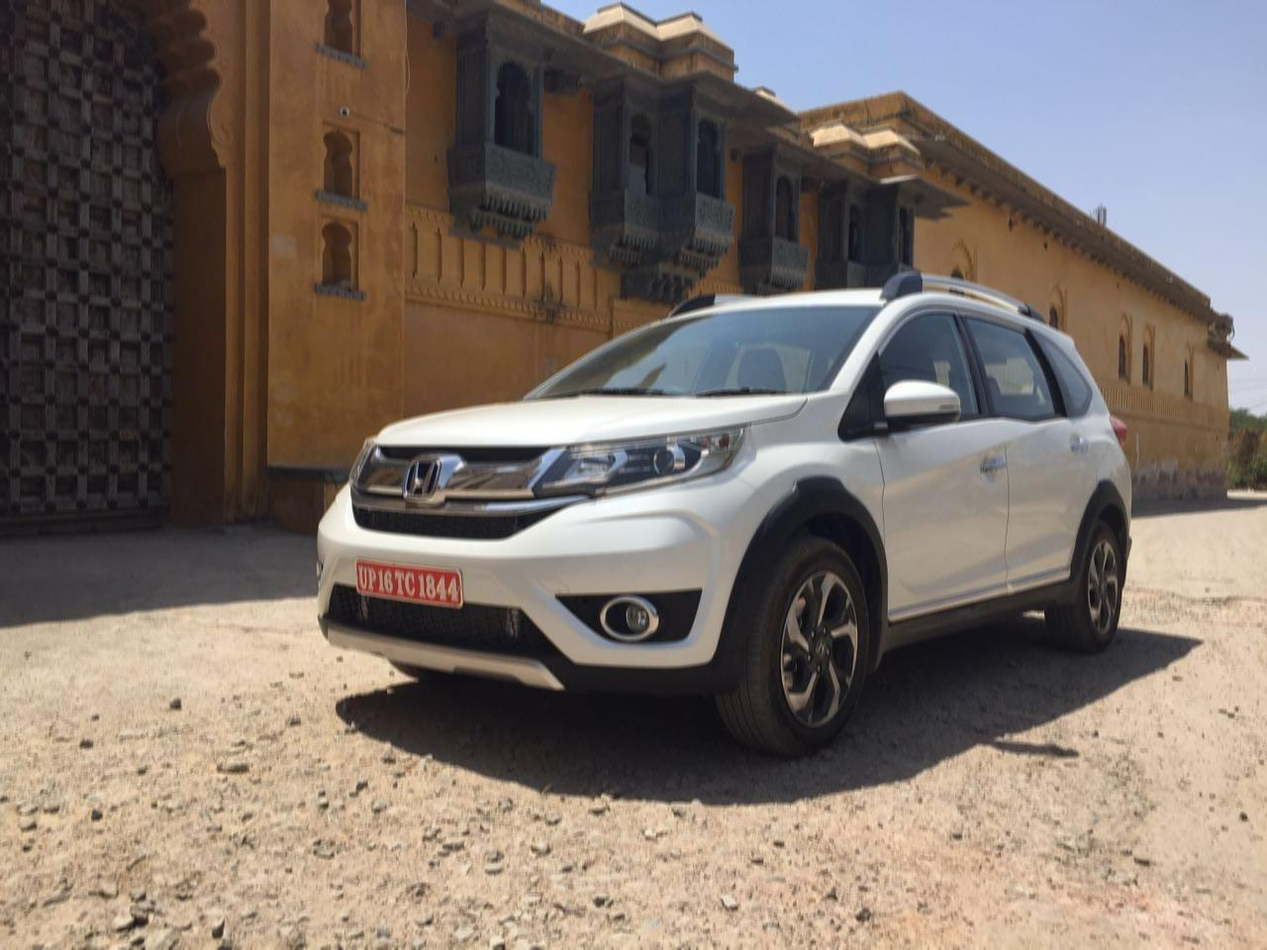Car hood: (369, 392, 812, 450)
Fender - -F-L-: (725, 396, 901, 634)
Front bumper: (308, 471, 782, 703)
Headlight - -L-: (530, 416, 754, 504)
Headlight - -R-: (341, 429, 382, 491)
Passenger-s door - -F-L-: (867, 290, 1011, 622)
Passenger-s door - -R-L-: (955, 294, 1093, 593)
Rear bumper: (1066, 433, 1142, 527), (1112, 519, 1143, 598)
Rear light - -L-: (1099, 399, 1137, 452)
Side bumper - -L-: (873, 574, 1085, 658)
Side mirror - -L-: (867, 370, 970, 439)
